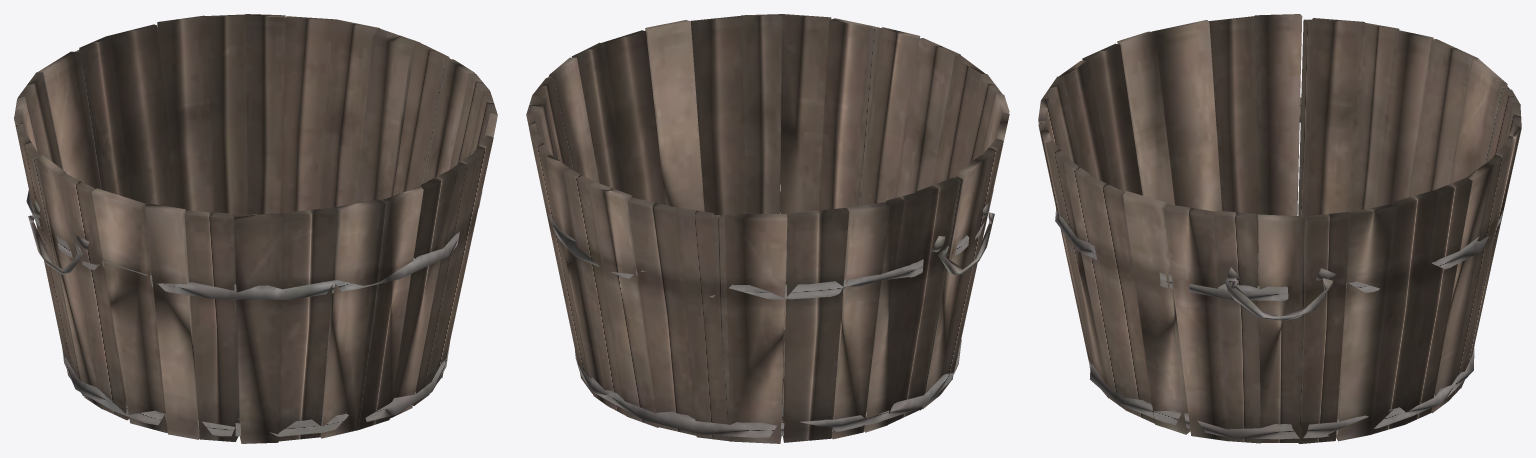
Rendered from wooden_bucket_02.glb.
3 renders of one model, left to right at view 1: azimuth 30°, elevation 25°; view 2: azimuth 150°, elevation 25°; view 3: azimuth 270°, elevation 25°, orthographic.
Visible parts, largest first — view 1: wooden_bucket_02; view 2: wooden_bucket_02; view 3: wooden_bucket_02.
Part boxes in pixels (bbox=[...]): wooden_bucket_02: bbox=[14, 14, 497, 443]; wooden_bucket_02: bbox=[526, 14, 1009, 443]; wooden_bucket_02: bbox=[1038, 14, 1521, 443].
Size of the model in its own units: 0.6111 by 0.3503 by 0.6124.
Materials: 1 (1 with a texture image).
